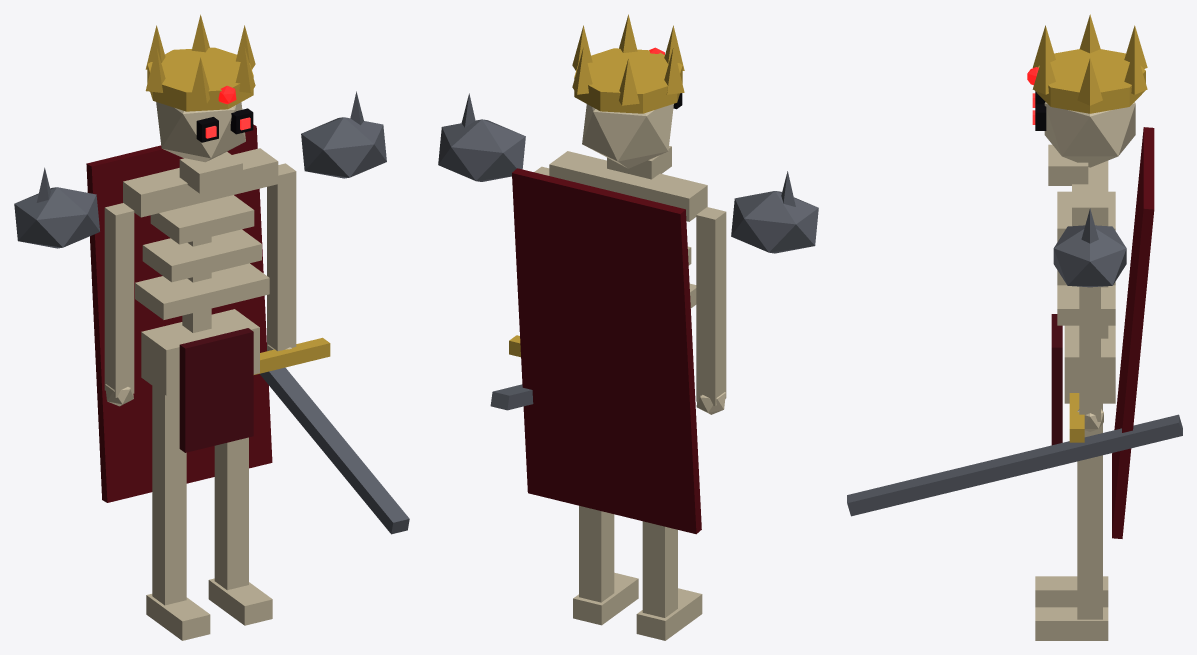
Rendered from boss.glb.
3 renders of one model, left to right at view 1: azimuth 30°, elevation 25°; view 2: azimuth 150°, elevation 25°; view 3: azimuth 270°, elevation 25°, orthographic. The views are drawn at different scales.
Visible parts, largest first — view 1: cape, loin, legL_m, armL_m, armR_m, legR_m, blade, rib0, shoulders, pauldron1, pauldron-1, crown (+9 smaller); view 2: cape, armL_m, crown, pauldron1, shoulders, pauldron-1, skull, legL_m, legR_m, legL_f, legR_f, jaw (+4 smaller); view 3: blade, cape, legR_m, crown, skull, pauldron1, armR_m, pelvis, legR_f, shoulders, legL_f, rib0 (+7 smaller).
Part boxes in pixels (x1,y1,x2,y2): cape: [86, 124, 272, 502]; loin: [179, 328, 253, 452]; legL_m: [152, 386, 186, 605]; armL_m: [104, 203, 134, 397]; armR_m: [267, 163, 296, 351]; legR_m: [214, 437, 248, 590]; blade: [260, 367, 409, 534]; rib0: [135, 263, 269, 319]; shoulders: [123, 148, 278, 217]; pauldron1: [301, 117, 386, 178]; pauldron-1: [14, 187, 99, 248]; crown: [147, 47, 253, 111]; cape: [512, 168, 701, 534]; armL_m: [696, 207, 726, 406]; crown: [574, 48, 682, 113]; pauldron1: [438, 119, 525, 181]; shoulders: [549, 151, 707, 221]; pauldron-1: [731, 191, 818, 253]; skull: [582, 104, 673, 168]; legL_m: [642, 521, 677, 617]; legR_m: [579, 505, 614, 602]; legL_f: [636, 588, 702, 640]; legR_f: [573, 572, 638, 625]; jaw: [607, 146, 671, 179]; blade: [847, 414, 1182, 516]; cape: [1112, 127, 1154, 538]; legR_m: [1077, 403, 1102, 619]; crown: [1035, 49, 1145, 113]; skull: [1044, 102, 1135, 167]; pauldron1: [1053, 225, 1126, 287]; armR_m: [1079, 286, 1100, 421]; pelvis: [1064, 325, 1115, 403]; legR_f: [1035, 607, 1108, 640]; shoulders: [1072, 160, 1108, 226]; legL_f: [1035, 576, 1108, 607]; rib0: [1057, 285, 1115, 325].
Bounding box in the file's own units: 1.99 × 3 × 1.56.
